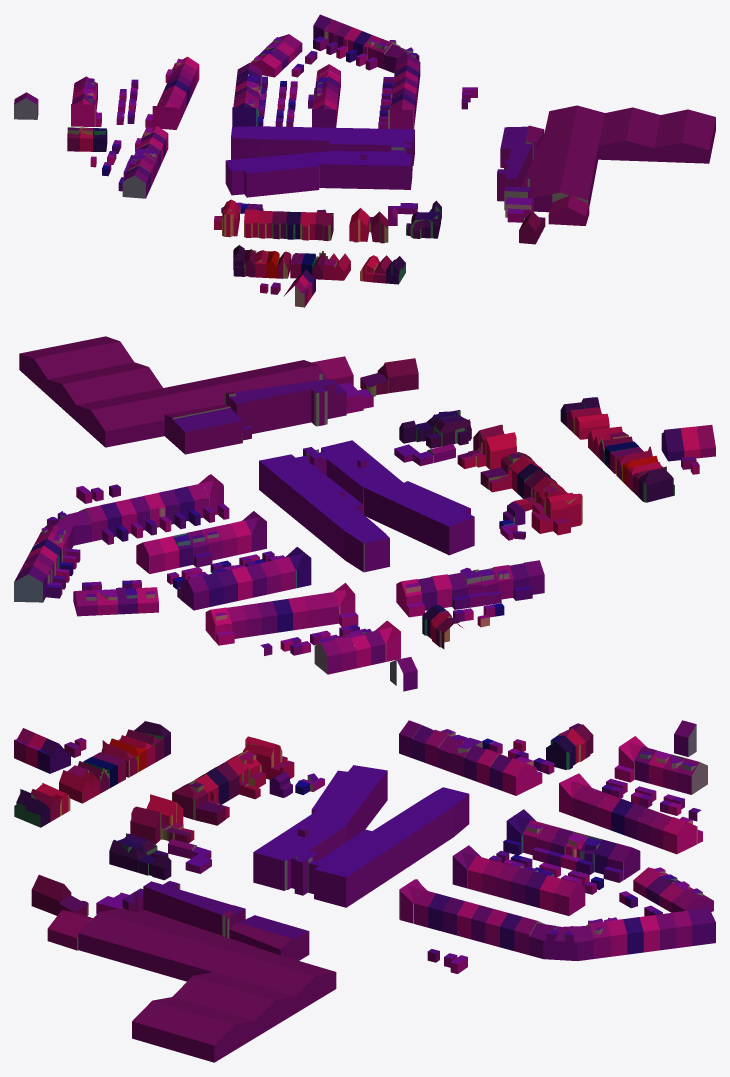
Rendered from buildings_13_11.glb.
The picture shows the model from 3 angles, top to bottom: view 1: azimuth 30°, elevation 25°; view 2: azimuth 150°, elevation 25°; view 3: azimuth 270°, elevation 25°; orthographic projection. The views are drawn at different scales.
Visible parts, largest first — view 1: buildings_13_11; view 2: buildings_13_11; view 3: buildings_13_11.
Boxes of the visible parts, box(x1,y1,x2,y2) form: buildings_13_11: box(14, 14, 715, 307); buildings_13_11: box(14, 336, 715, 691); buildings_13_11: box(14, 720, 715, 1062).
Size of the model in its own units: 226 by 12.64 by 210.
